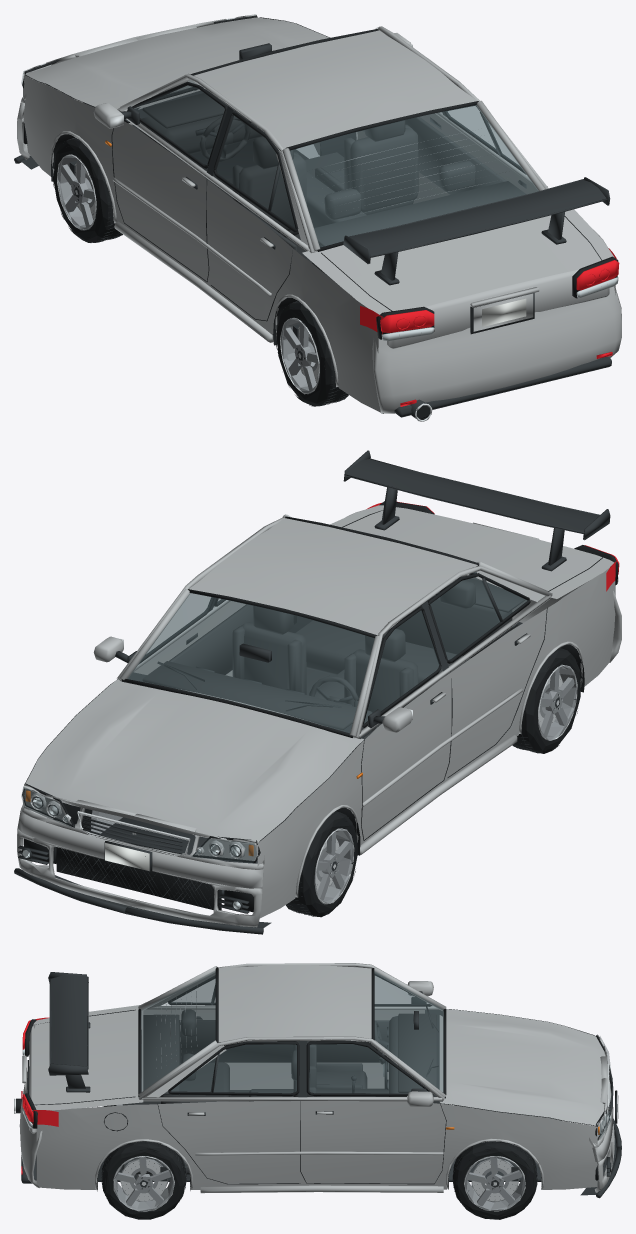
Rendered from Sedan01_LOD2.fbx.
The picture shows the model from 3 angles, top to bottom: view 1: azimuth 30°, elevation 25°; view 2: azimuth 150°, elevation 25°; view 3: azimuth 270°, elevation 25°; orthographic projection. The views are drawn at different scales.
Visible parts, largest first — view 1: Body, Glass, Wheel_FL, Wheel_RL; view 2: Body, Glass, Wheel_FL, Wheel_RL; view 3: Body, Glass, Wheel_FR, Wheel_RR.
Boxes of the visible parts, x1,y1,x2,y2 form: Body: [14, 14, 621, 421]; Glass: [21, 18, 538, 247]; Wheel_FL: [53, 137, 122, 242]; Wheel_RL: [276, 301, 348, 406]; Body: [14, 450, 621, 934]; Glass: [21, 572, 527, 862]; Wheel_FL: [286, 811, 357, 917]; Wheel_RL: [512, 648, 581, 753]; Body: [14, 963, 621, 1198]; Glass: [141, 971, 611, 1139]; Wheel_FR: [452, 1141, 537, 1219]; Wheel_RR: [101, 1141, 186, 1219].
Bounding box in the file's own units: 2.14 × 1.48 × 4.68.
